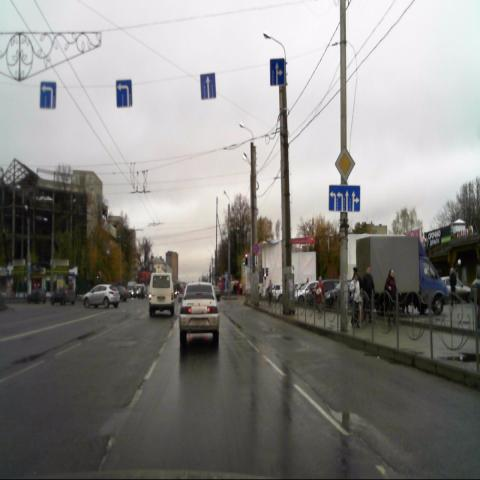5_15_2: (116, 79, 132, 108), (200, 72, 216, 100)
